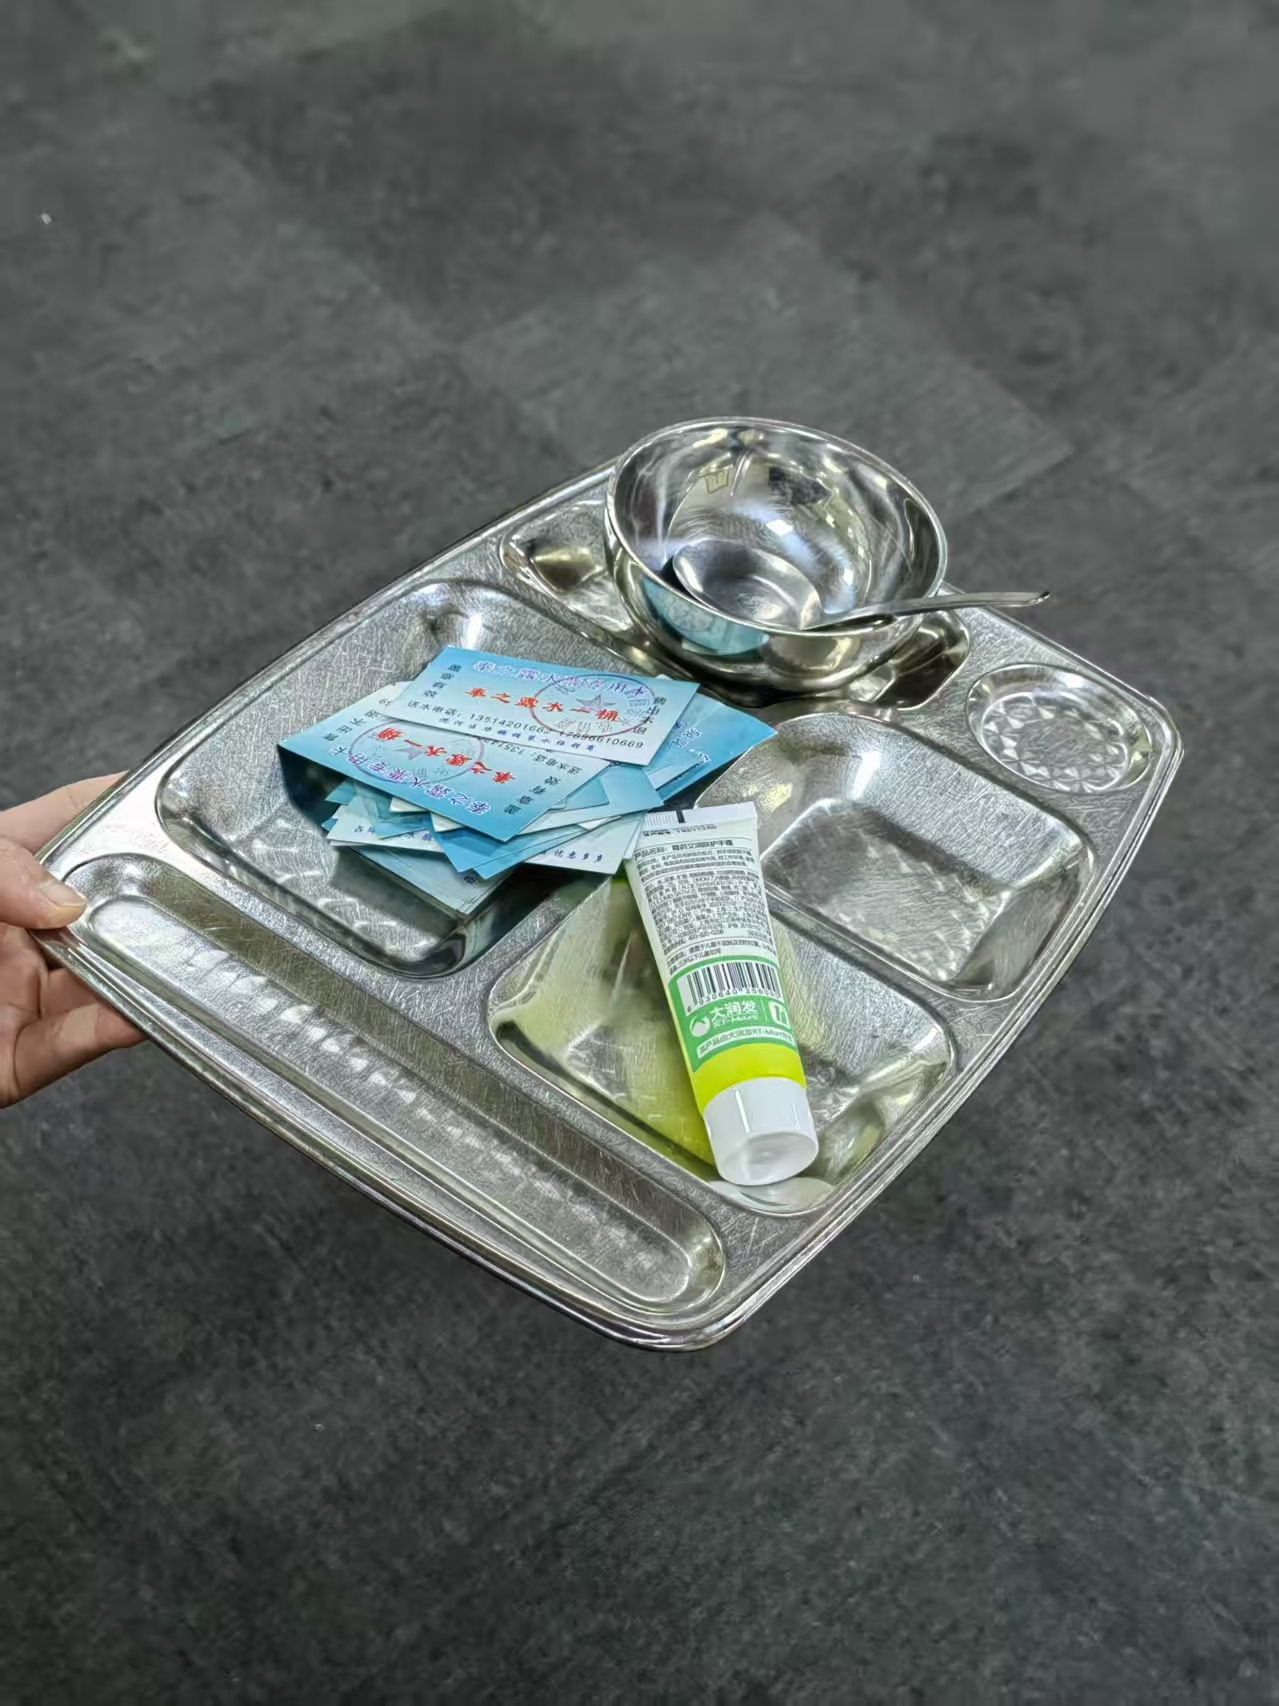moderate: (277, 647, 821, 1190)
plate: (21, 436, 1187, 1357)
